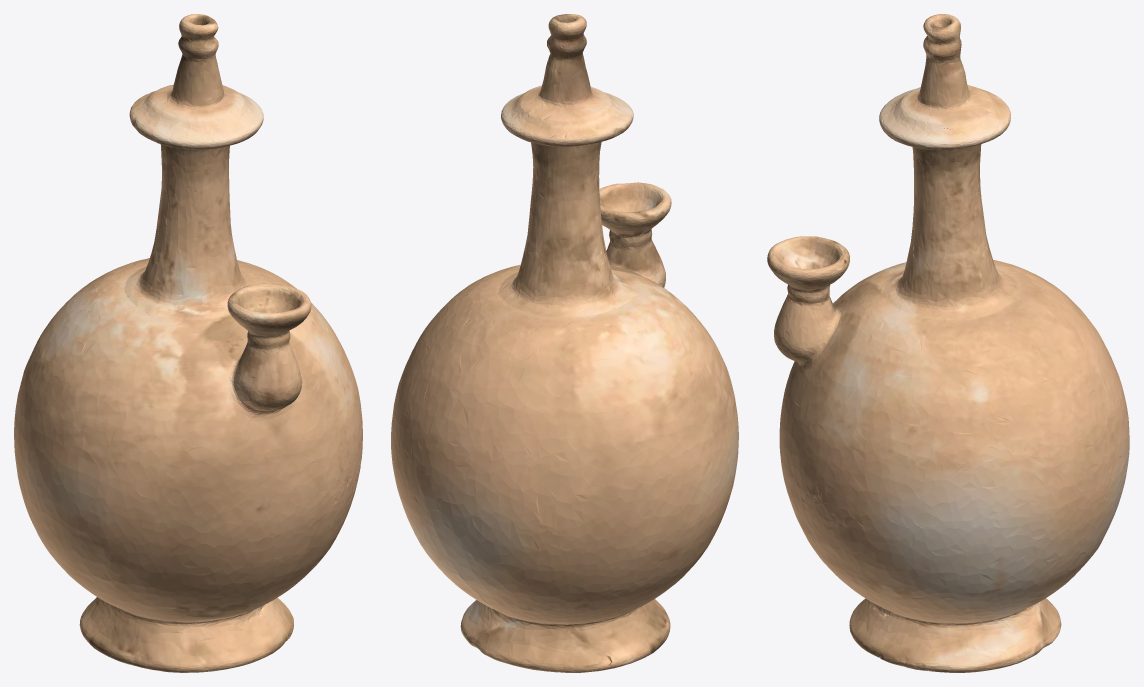
File: hm-ceramic-kundika.glb
3 views of the same model, side by side, from view 1: azimuth 30°, elevation 25°; view 2: azimuth 150°, elevation 25°; view 3: azimuth 270°, elevation 25° (orthographic).
Parts seen in each view (by area): view 1: Object_2; view 2: Object_2; view 3: Object_2.
Boxes of the visible parts, <box> form: Object_2: <box>14,14,362,672</box>; Object_2: <box>391,14,738,672</box>; Object_2: <box>767,14,1129,672</box>.
Size of the model in its own units: 0.1353 by 0.262 by 0.1402.
Materials: 1 (1 with a texture image).
